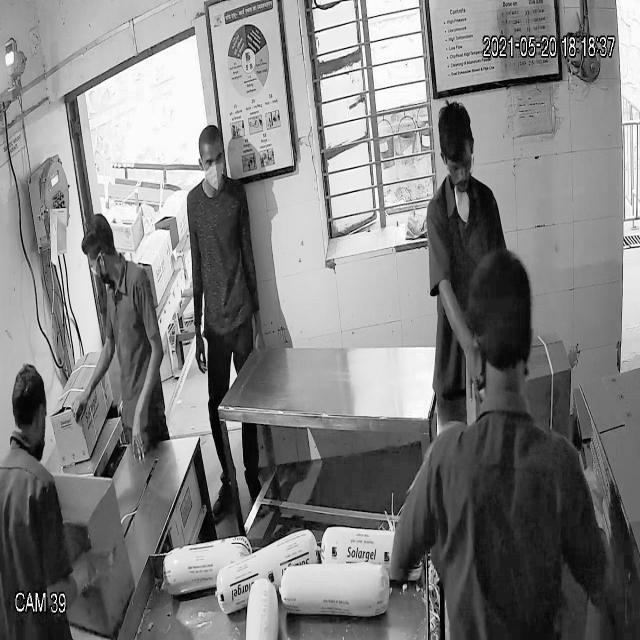glasses: (438, 149, 478, 178)
no-glass: (198, 152, 226, 172)
